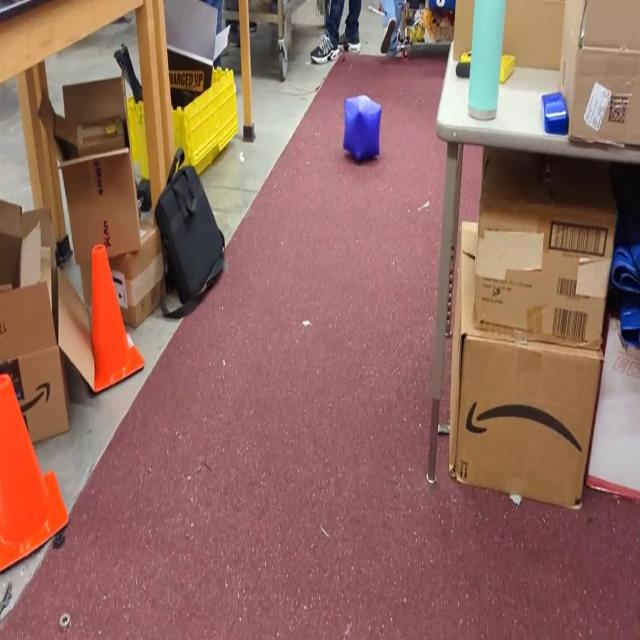frc_cube: (340, 92, 384, 164)
